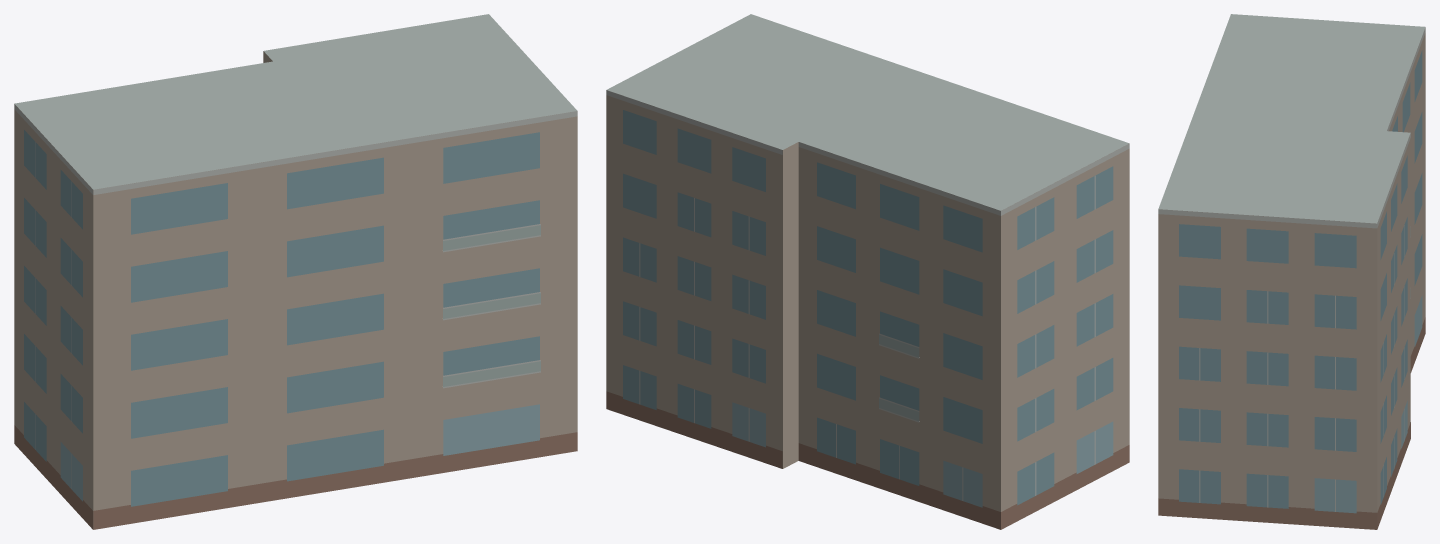
Rendered from survey-upis-32523155.glb.
3 views of the same model, side by side, from view 1: azimuth 30°, elevation 25°; view 2: azimuth 150°, elevation 25°; view 3: azimuth 270°, elevation 25° (orthographic). The views are drawn at different scales.
Parts seen in each view (by area): view 1: survey-upis-32523155.tmp; view 2: survey-upis-32523155.tmp; view 3: survey-upis-32523155.tmp.
Boxes of the visible parts, x1,y1,x2,y2 form: survey-upis-32523155.tmp: (14, 14, 577, 529); survey-upis-32523155.tmp: (606, 14, 1129, 529); survey-upis-32523155.tmp: (1158, 14, 1425, 529).
Size of the model in its own units: 22.38 by 15.25 by 12.07.
